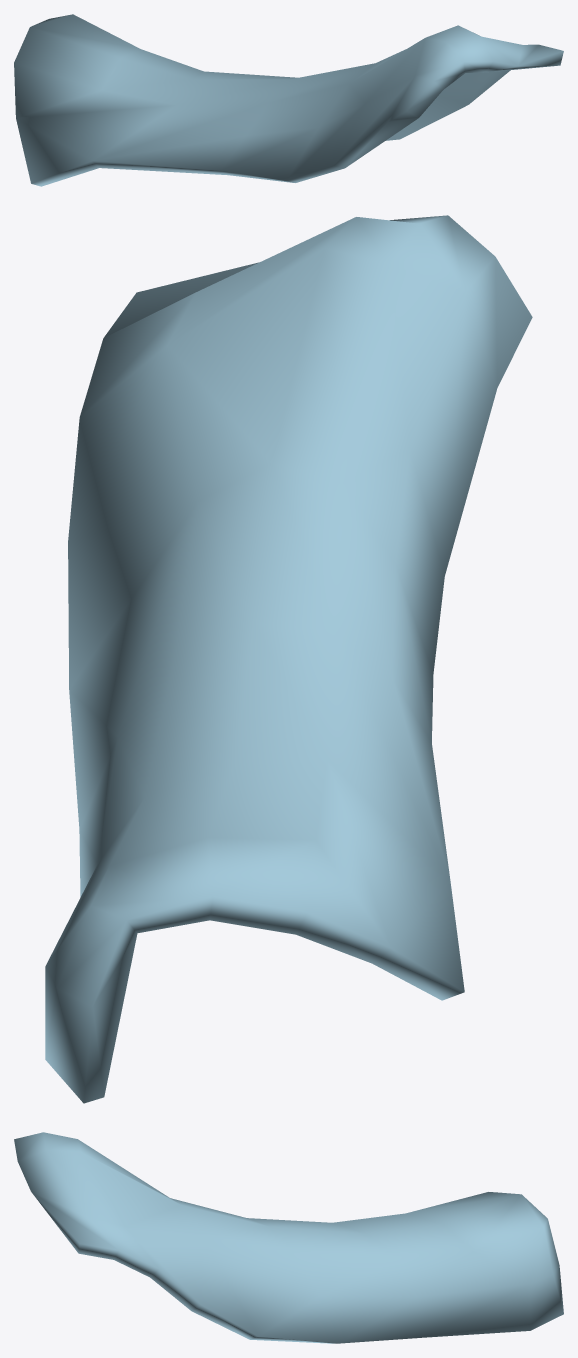
The model's file is articulacoes-posterior-meniscotibial-ligament-medial-meniscus-l.glb.
3 views of the same model, one above another, from view 1: azimuth 30°, elevation 25°; view 2: azimuth 150°, elevation 25°; view 3: azimuth 270°, elevation 25° (orthographic). The views are drawn at different scales.
Visible parts, largest first — view 1: Posterior meniscotibial ligament (Medial meniscus).l; view 2: Posterior meniscotibial ligament (Medial meniscus).l; view 3: Posterior meniscotibial ligament (Medial meniscus).l.
Part boxes in pixels (x1,y1,x2,y2): Posterior meniscotibial ligament (Medial meniscus).l: (14,14,563,186); Posterior meniscotibial ligament (Medial meniscus).l: (45,215,532,1103); Posterior meniscotibial ligament (Medial meniscus).l: (14,1132,563,1343).
Size of the model in its own units: 0.0135 by 0.00915 by 0.02.
